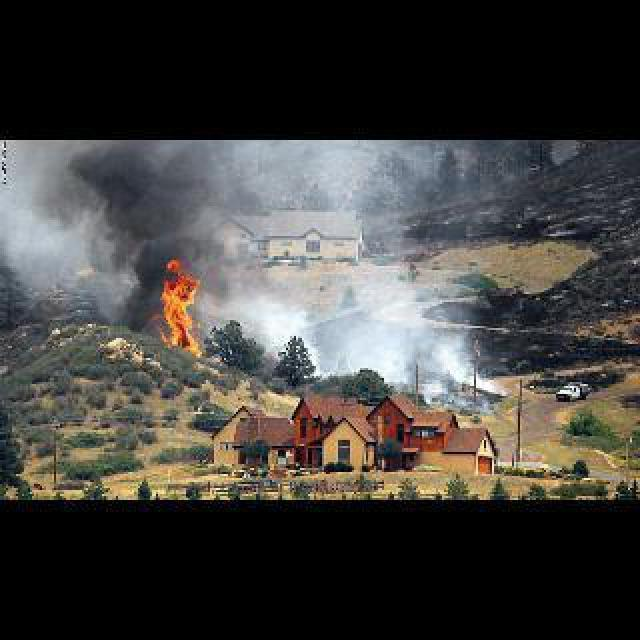fire: (158, 256, 202, 354)
smoke: (210, 135, 497, 427), (0, 142, 205, 318)
